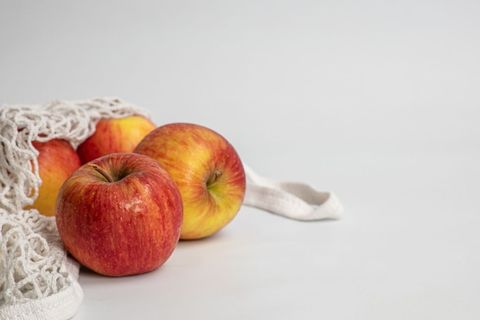apple: (55, 154, 185, 276), (134, 122, 246, 240)
